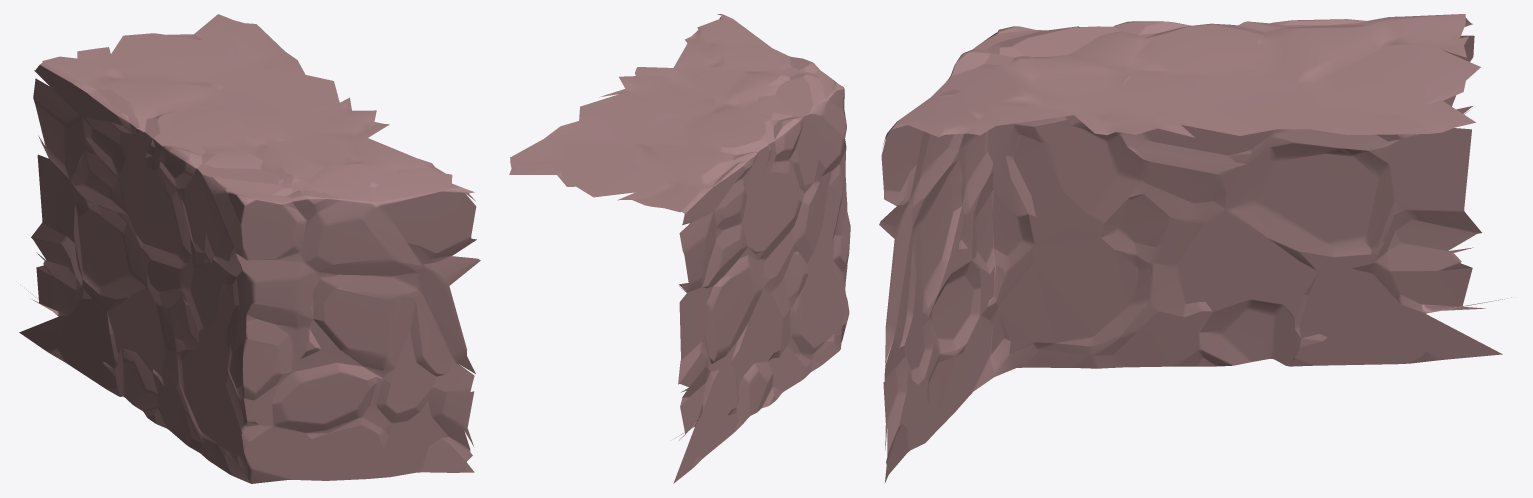
The model's file is pleateauArea1.fbx_PolyShape__46__001LODs.fbx.
The picture shows the model from 3 angles, left to right: view 1: azimuth 30°, elevation 25°; view 2: azimuth 150°, elevation 25°; view 3: azimuth 270°, elevation 25°; orthographic projection. The views are drawn at different scales.
Visible parts, largest first — view 1: PolyShape (46).001_LOD0; view 2: PolyShape (46).001_LOD0; view 3: PolyShape (46).001_LOD0.
Boxes of the visible parts, left/top/right/bottom form: PolyShape (46).001_LOD0: left=19, top=14, right=480, bottom=483; PolyShape (46).001_LOD0: left=509, top=14, right=850, bottom=483; PolyShape (46).001_LOD0: left=879, top=14, right=1511, bottom=482.
Size of what is drawn, in the model's own units: 3176 by 4183 by 6866.
